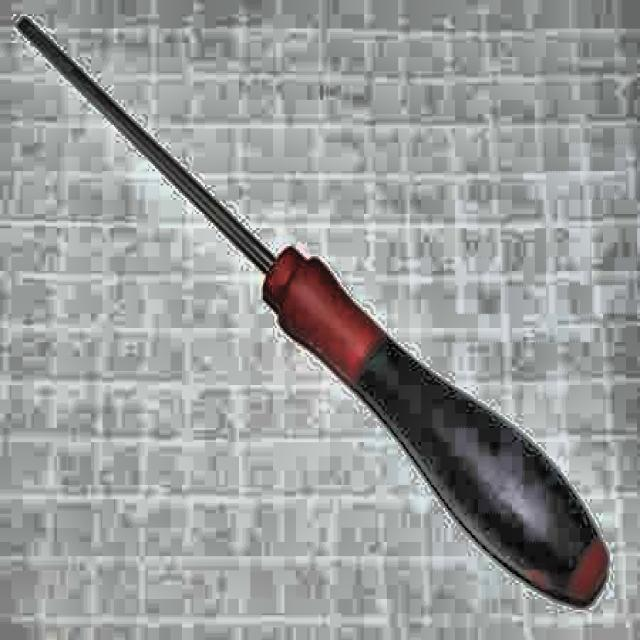screwdriver: (17, 14, 610, 610)
